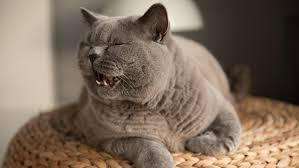Cat: (59, 3, 189, 107)
